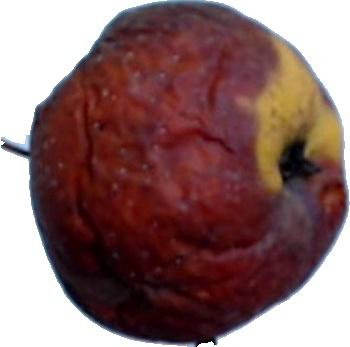Apple Overripe: (0, 0, 350, 340)
